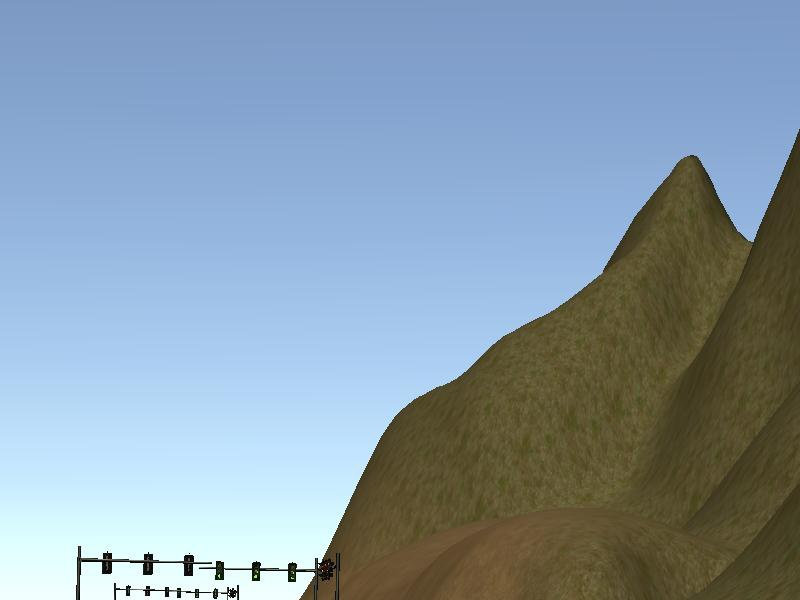Green: (286, 562, 297, 583), (252, 561, 261, 581), (215, 561, 224, 579)
